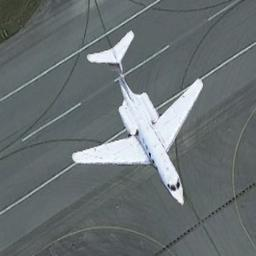Airplane: (71, 29, 203, 206)
